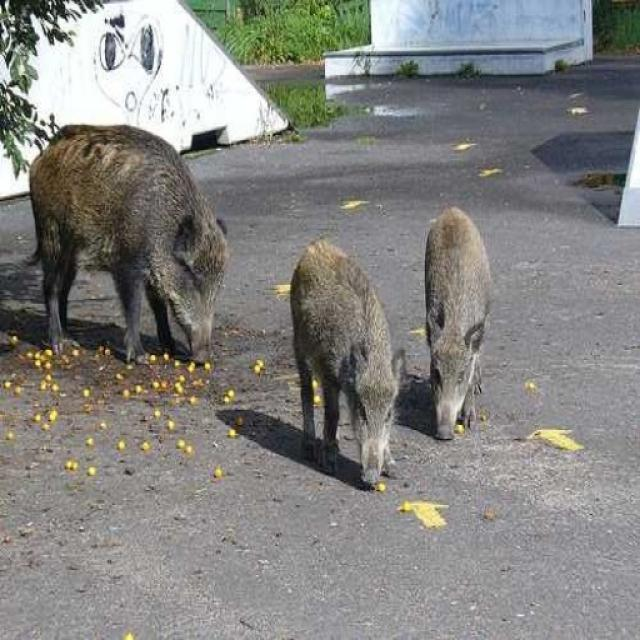pig: (207, 194, 492, 586), (381, 179, 630, 541), (0, 55, 242, 381)
